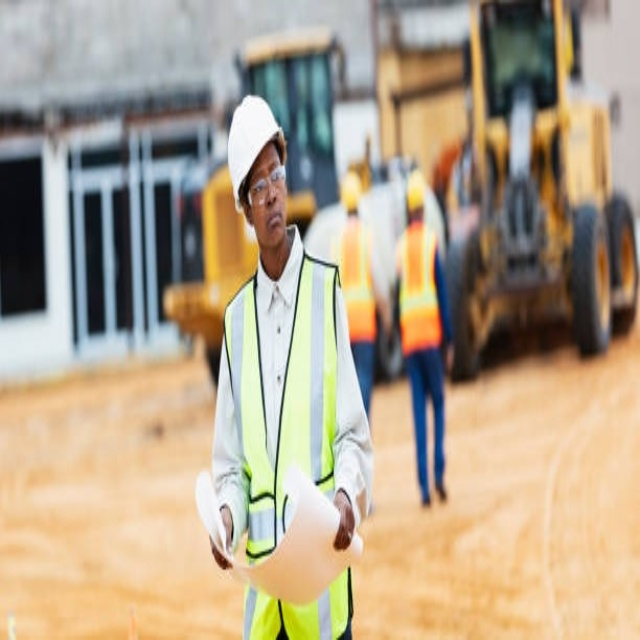Gafas: (248, 164, 287, 206)
Sin_guantes: (332, 486, 357, 554)
Sin_mascara: (260, 204, 284, 247)
